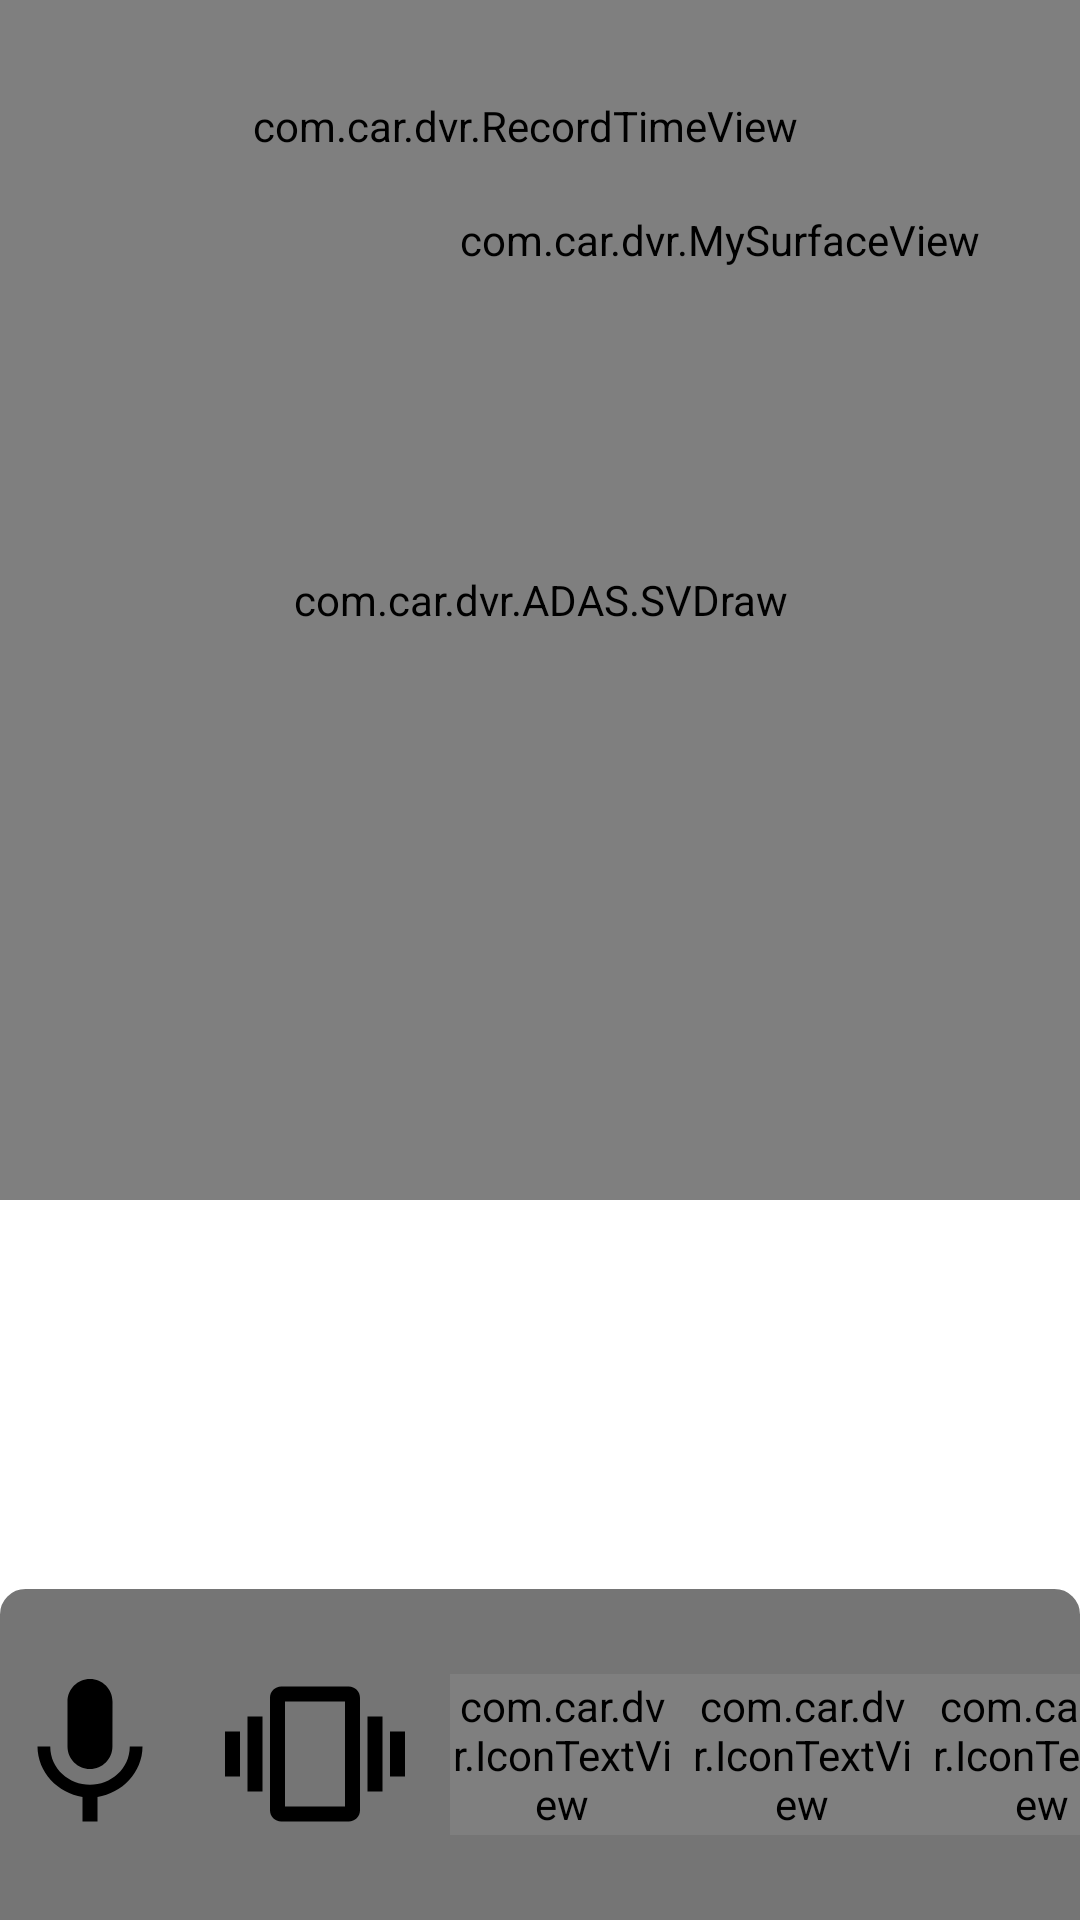

Icon click points for this 1080*1920 phone screenshot, format (x,y):
mic: (90,1750)
vibration: (315,1754)
